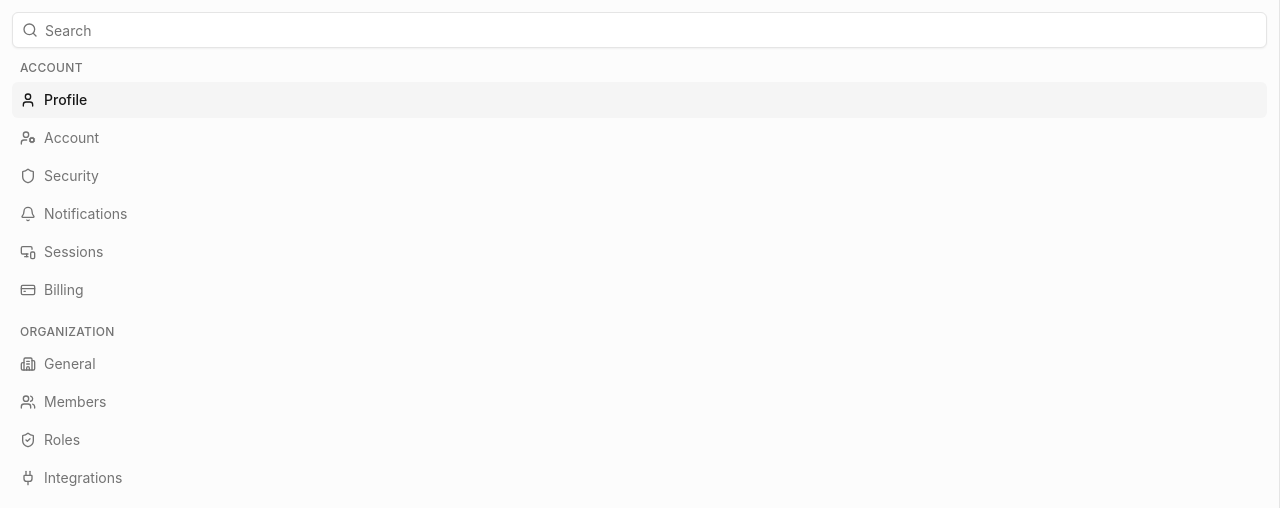
SettingsNav › shows an empty state when no items match
Step 1. Type "zzznomatch" into the search field with test id "settings-search" → coordinates (640, 30), box [12, 12, 1267, 48]
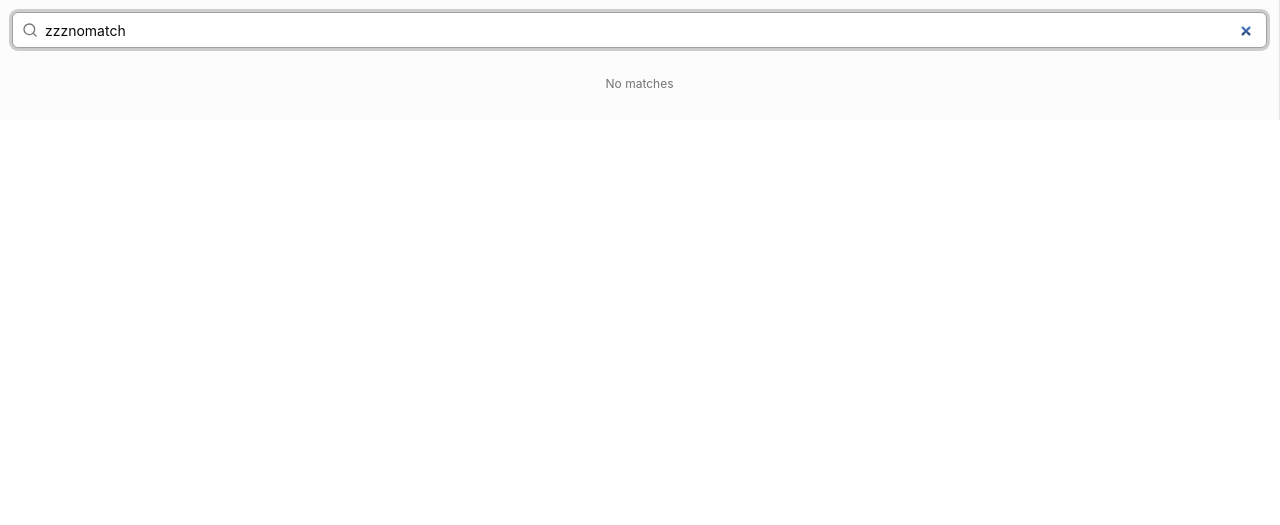
Now the text "No matches" is shown, box [606, 76, 674, 91]
